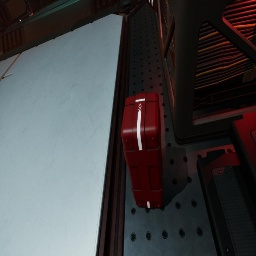FirstAidBox ,: (121, 92, 163, 209)
NitrogenTank ,: (146, 0, 155, 12)
SafetySwitchPanel ,: (2, 0, 4, 1)
